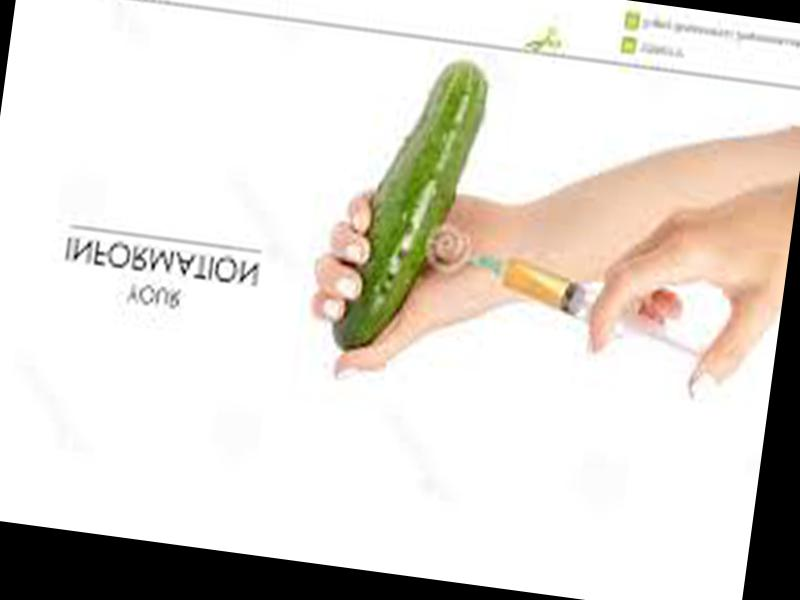Cucumber: (330, 48, 491, 365)
